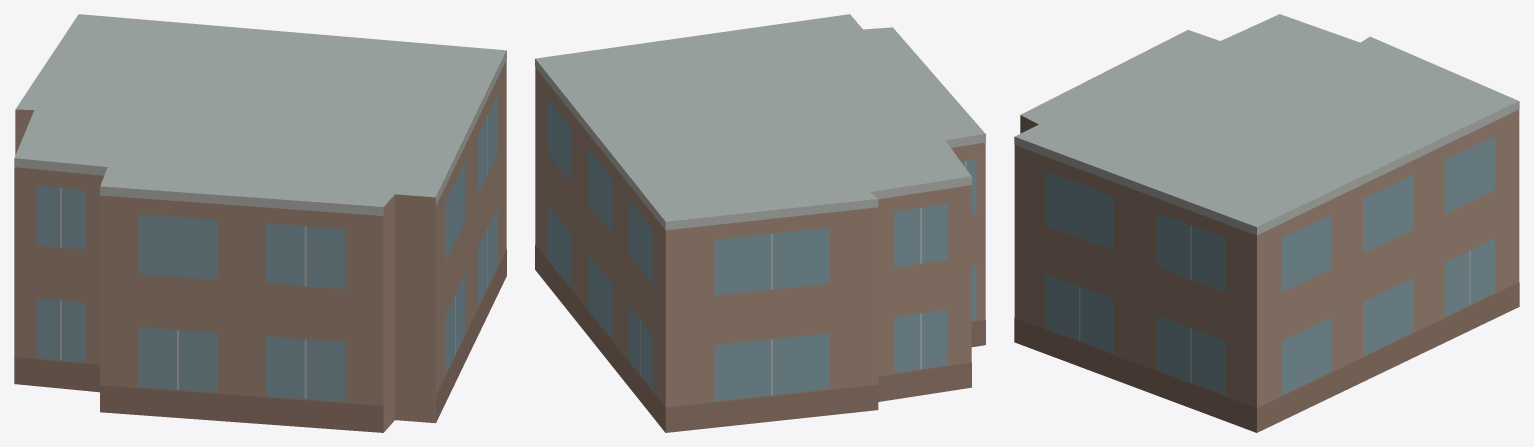
The model's file is survey-upis-32909279.glb.
The picture shows the model from 3 angles, left to right: view 1: azimuth 30°, elevation 25°; view 2: azimuth 150°, elevation 25°; view 3: azimuth 270°, elevation 25°; orthographic projection. The views are drawn at different scales.
Visible parts, largest first — view 1: survey-upis-32909279.tmp; view 2: survey-upis-32909279.tmp; view 3: survey-upis-32909279.tmp.
Boxes of the visible parts, left/top/right/bottom form: survey-upis-32909279.tmp: left=14, top=14, right=506, bottom=432; survey-upis-32909279.tmp: left=535, top=14, right=985, bottom=432; survey-upis-32909279.tmp: left=1014, top=14, right=1519, bottom=432.
Bounding box in the file's own units: 13.57 × 6.1 × 13.58.
